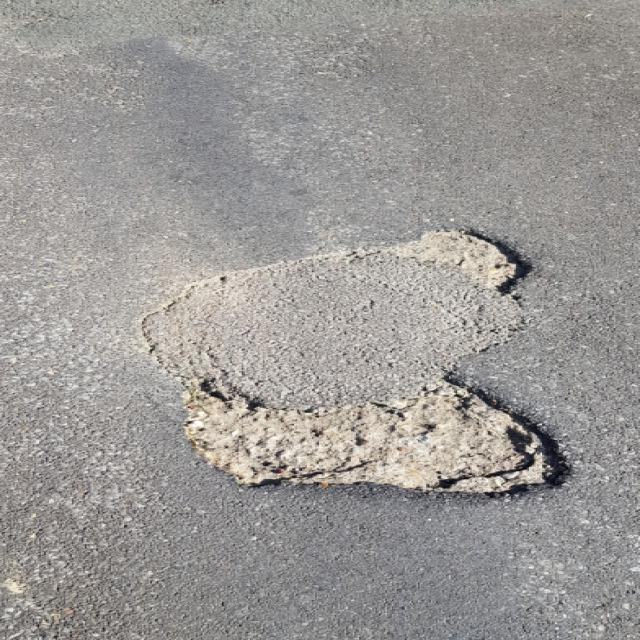Pothole: (180, 368, 580, 498), (374, 222, 542, 295)
